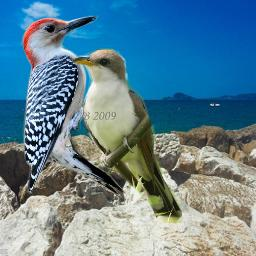Cuckoo: (71, 47, 182, 223)
Woodpecker: (13, 8, 134, 209)
